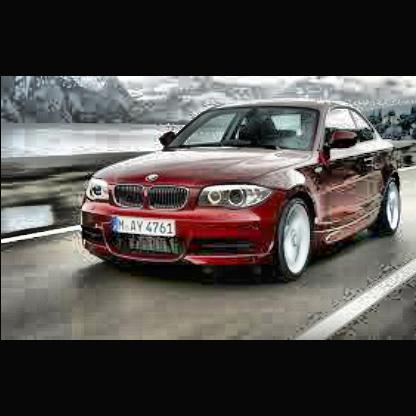BMW 1 Series Coupe 2012: (78, 98, 406, 286)
